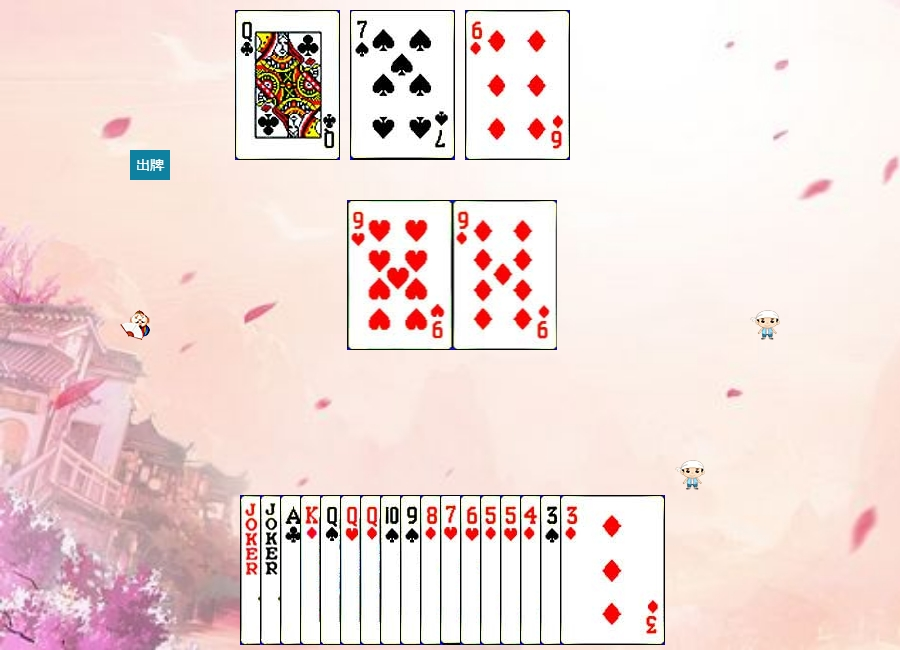10~4: (380, 495, 485, 645)
12~1: (360, 495, 465, 645)
12~2: (235, 10, 340, 160)
12~3: (340, 495, 445, 645)
12~4: (320, 495, 425, 645)
13~1: (300, 495, 405, 645)
14~2: (280, 495, 385, 645)
17~3: (260, 495, 365, 645)
18~4: (240, 495, 345, 645)
3~1: (560, 495, 665, 645)
3~4: (540, 495, 645, 645)
4~1: (520, 495, 625, 645)
5~1: (480, 495, 585, 645)
5~3: (500, 495, 605, 645)
6~1: (465, 10, 570, 160)
6~3: (460, 495, 565, 645)
7~3: (440, 495, 545, 645)
7~4: (350, 10, 455, 160)
8~1: (420, 495, 525, 645)
9~1: (453, 200, 558, 350)
9~3: (348, 200, 453, 350)
9~4: (400, 495, 505, 645)
